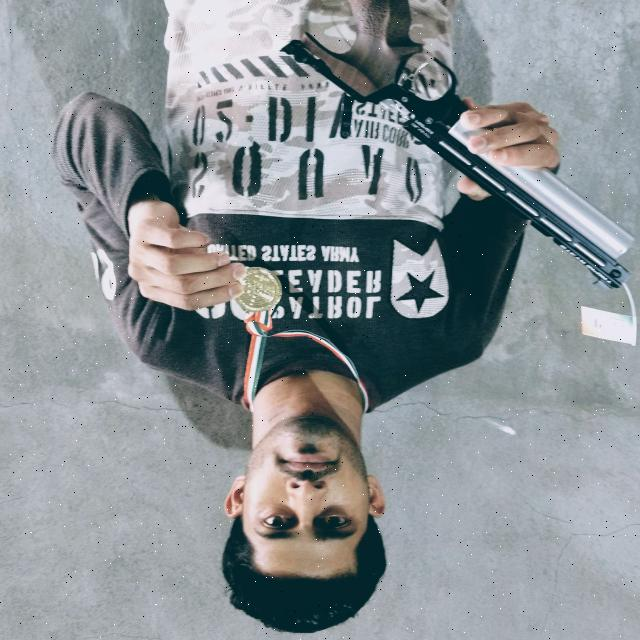gun: (289, 0, 640, 298)
